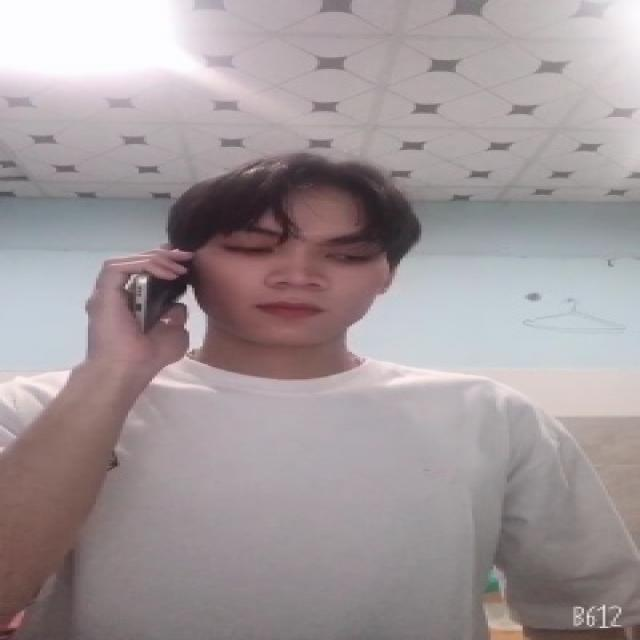Phone: (124, 242, 196, 342)
